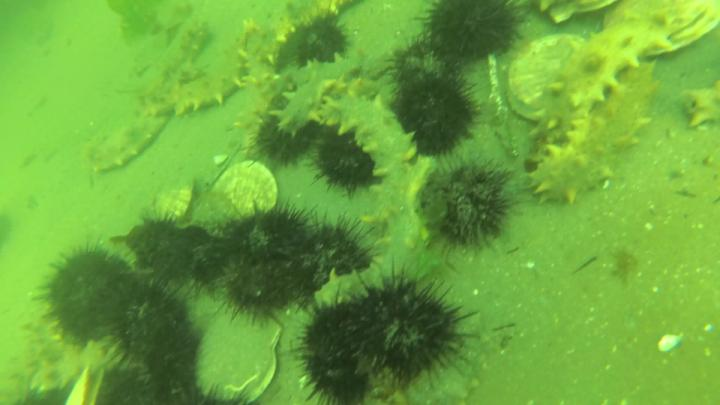echinus: (355, 271, 469, 383), (42, 242, 138, 344), (419, 161, 511, 257), (102, 281, 201, 368), (298, 301, 372, 405), (394, 76, 476, 158), (420, 1, 516, 69), (220, 253, 303, 328), (292, 220, 373, 295), (230, 203, 312, 270), (316, 133, 375, 192), (256, 115, 319, 166), (131, 217, 182, 272), (293, 19, 349, 69), (188, 238, 235, 290)
holothurian: (311, 92, 430, 316), (526, 61, 662, 210), (525, 21, 675, 149), (135, 36, 249, 121), (142, 18, 213, 104), (30, 335, 128, 396), (83, 110, 171, 175), (235, 74, 288, 164), (270, 75, 341, 138), (243, 10, 288, 103), (686, 77, 720, 131)
scallop: (195, 306, 289, 404), (504, 33, 587, 124), (605, 1, 720, 56), (211, 160, 280, 219), (148, 172, 200, 224), (532, 1, 615, 28)
